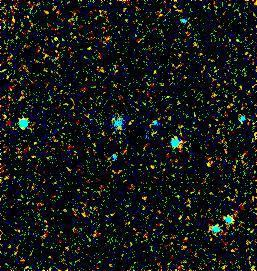star: (45, 25, 75, 55)
